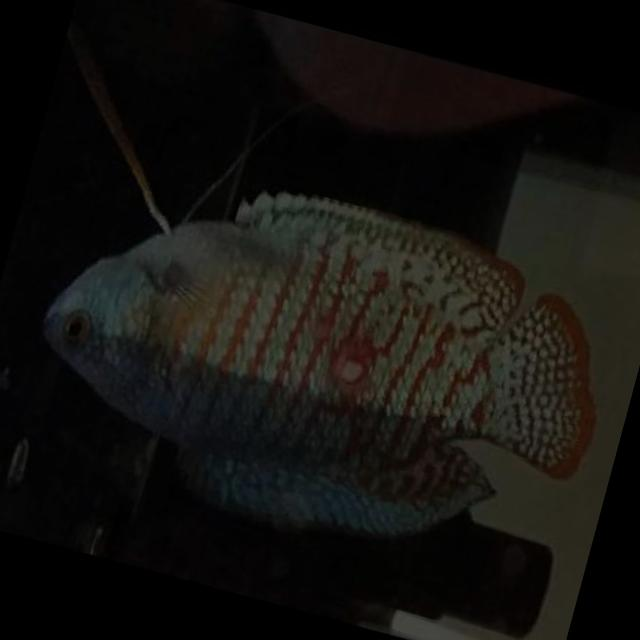Gourami: (5, 134, 638, 596)
